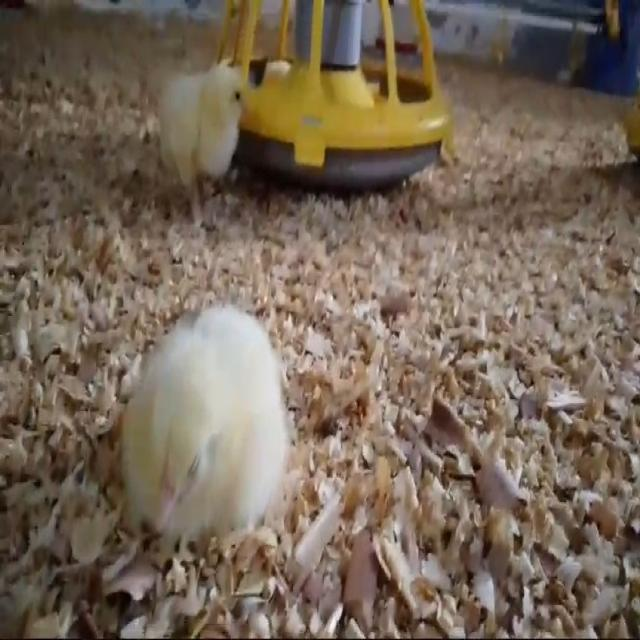feeding: (158, 25, 259, 229)
sleeping chickens: (79, 287, 302, 570)
